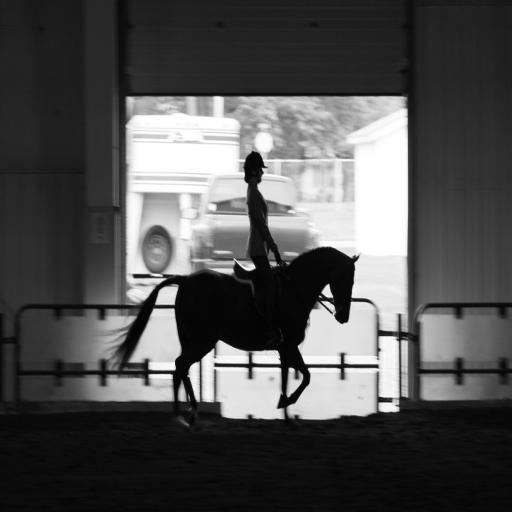horse: (96, 244, 360, 432)
